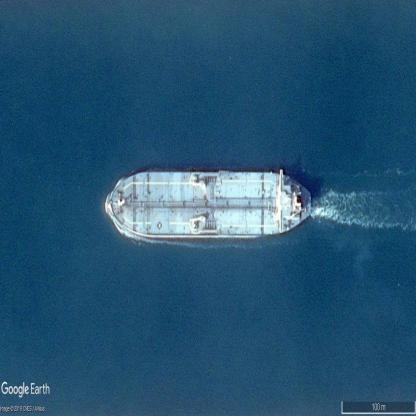ship: (106, 171, 312, 238)
